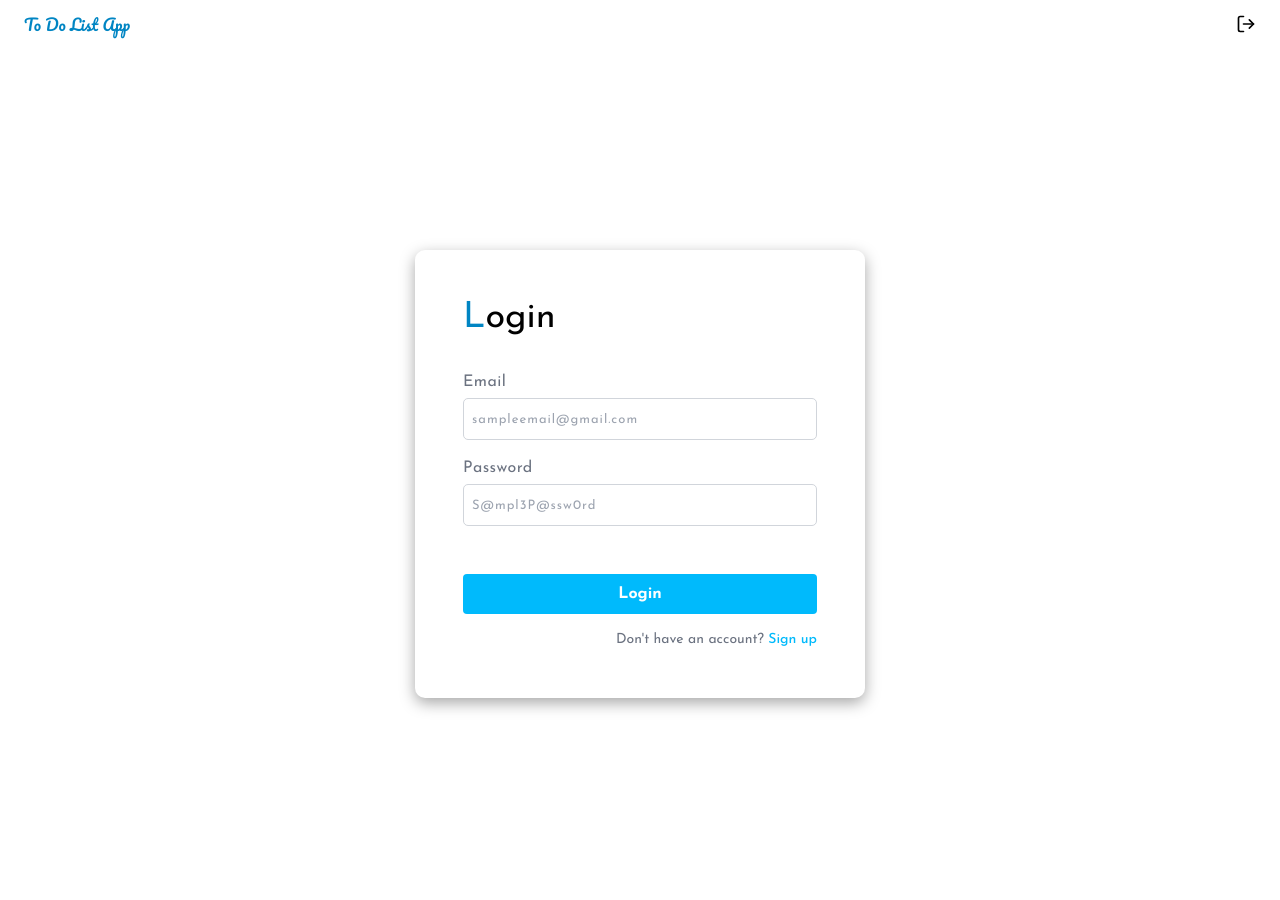
Test: Login View › display error on invalid email
Type "testusergmai" into the field labelled "Email".
click(640, 419); type("testusergmai")  # box [463, 398, 817, 440]
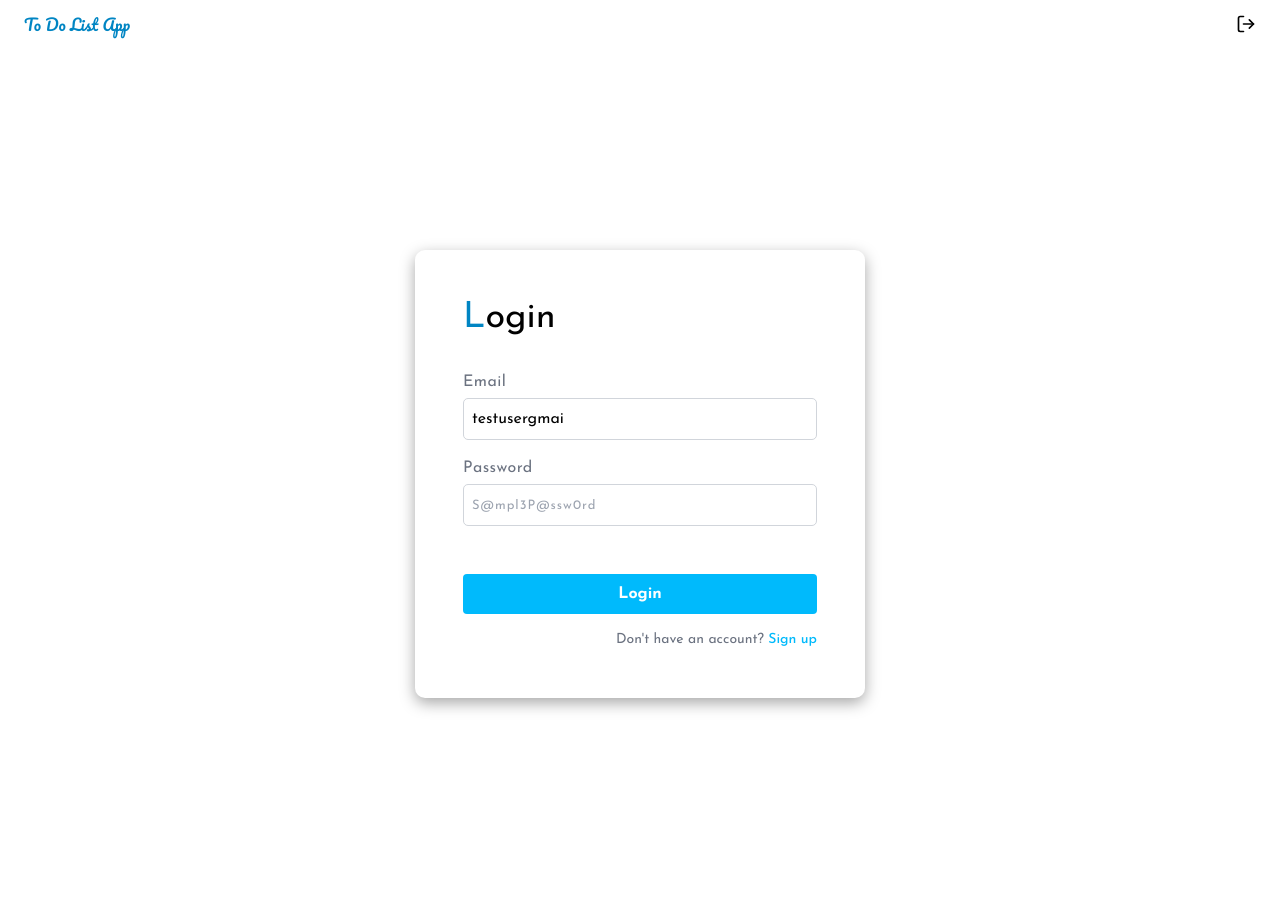
Click the button "Login".
click(640, 594)  # box [463, 574, 817, 614]
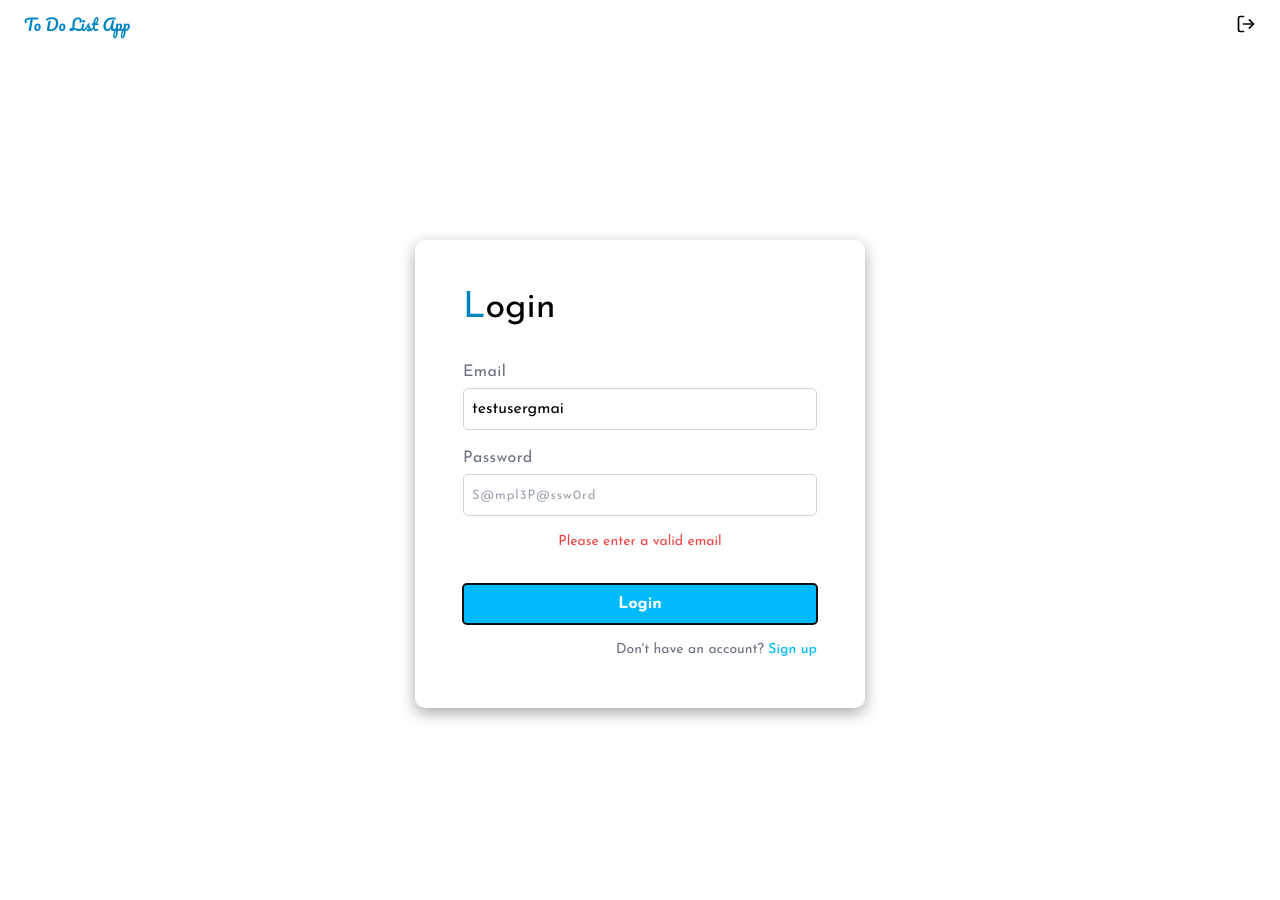
Expected: the text with test id "error-message" reads "Please enter a valid email", [558, 534, 722, 549]
